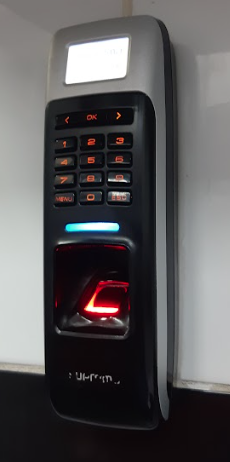Suprema: (34, 14, 182, 435)
